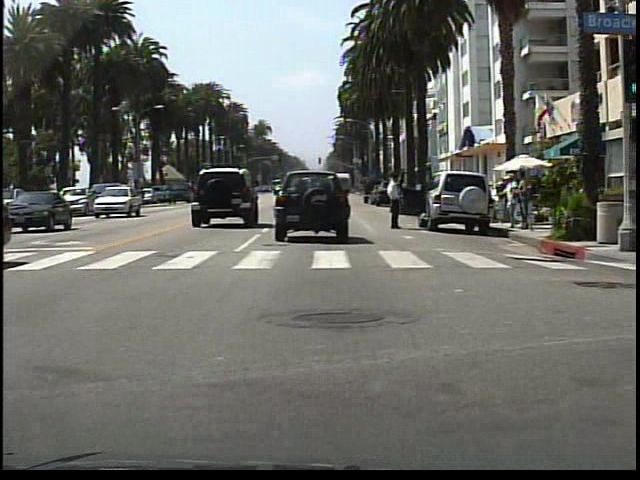person: (381, 169, 408, 233), (513, 168, 534, 234), (499, 166, 519, 235)
